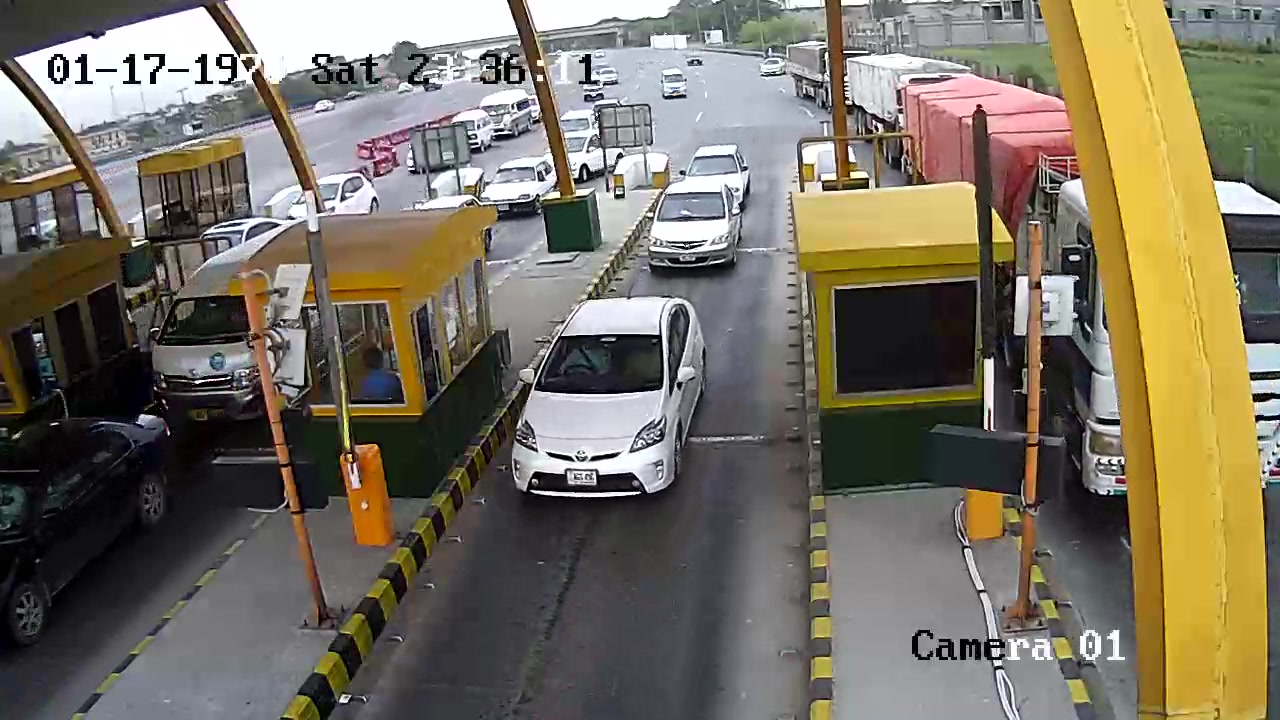F1: (501, 290, 717, 512), (643, 181, 743, 273)
